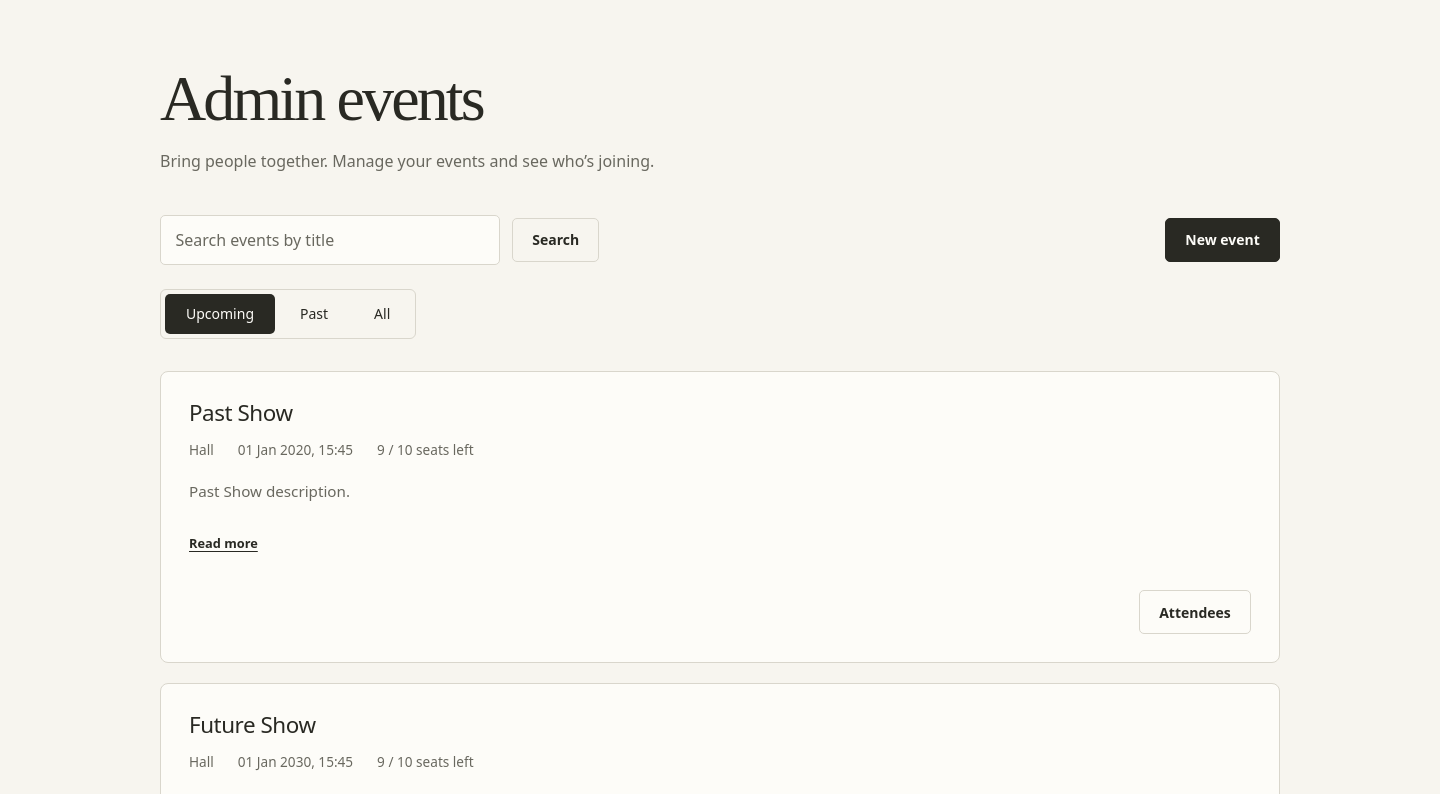
Test: started events are read-only › expands and collapses overflowing descriptions independently with accessible controls
The width and height of the screenshot is (1440, 794).
Expected: the heading "Past Show" is shown, [189,397,292,428]
Expected: the text "Past Show description." is shown, [189,480,350,500]
Click the button "Read more". click: {"x": 223, "y": 544}
box: [189,522,258,566]
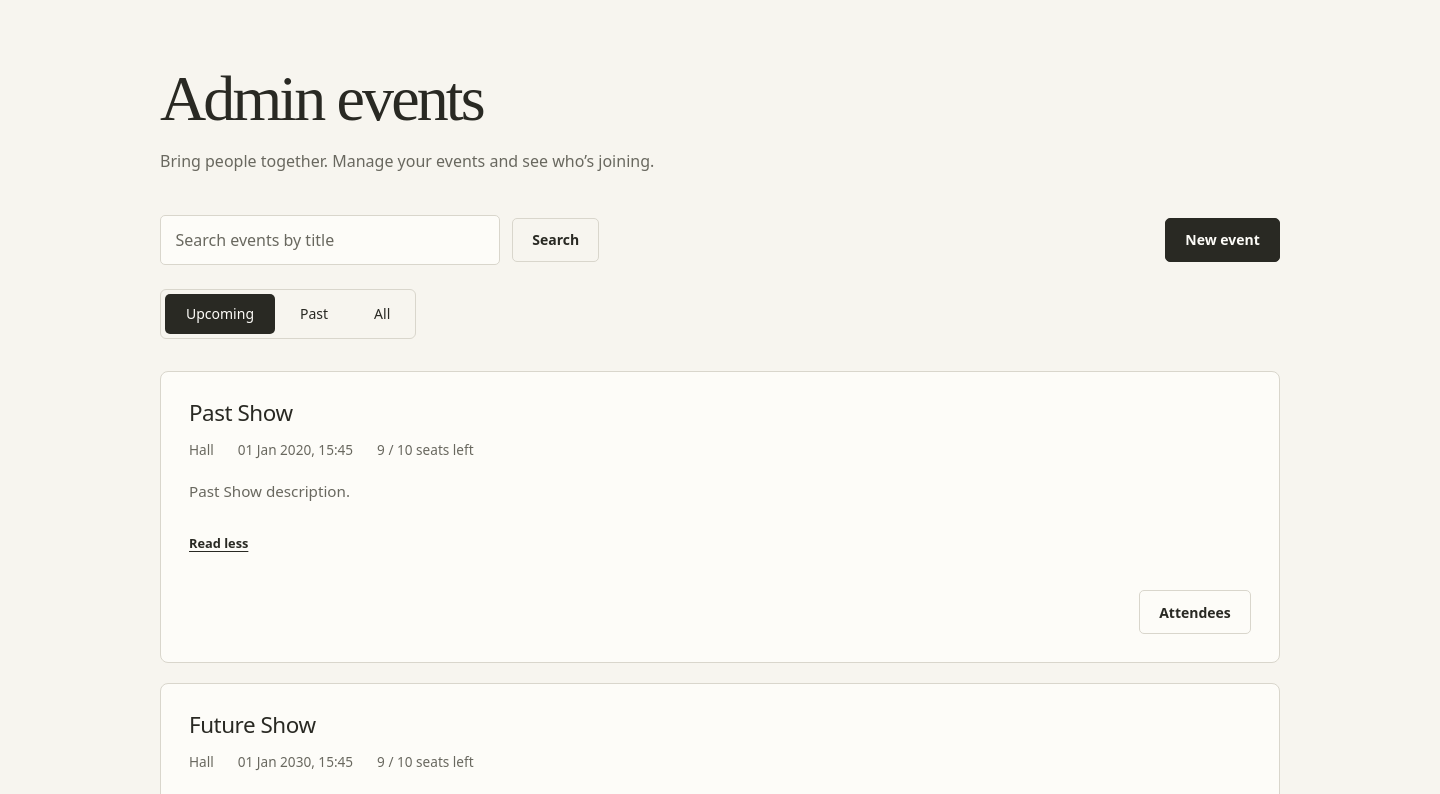
Expected: the button "Read less" is expanded
Click the button "Read less". click: {"x": 219, "y": 544}
box: [189,522,248,566]
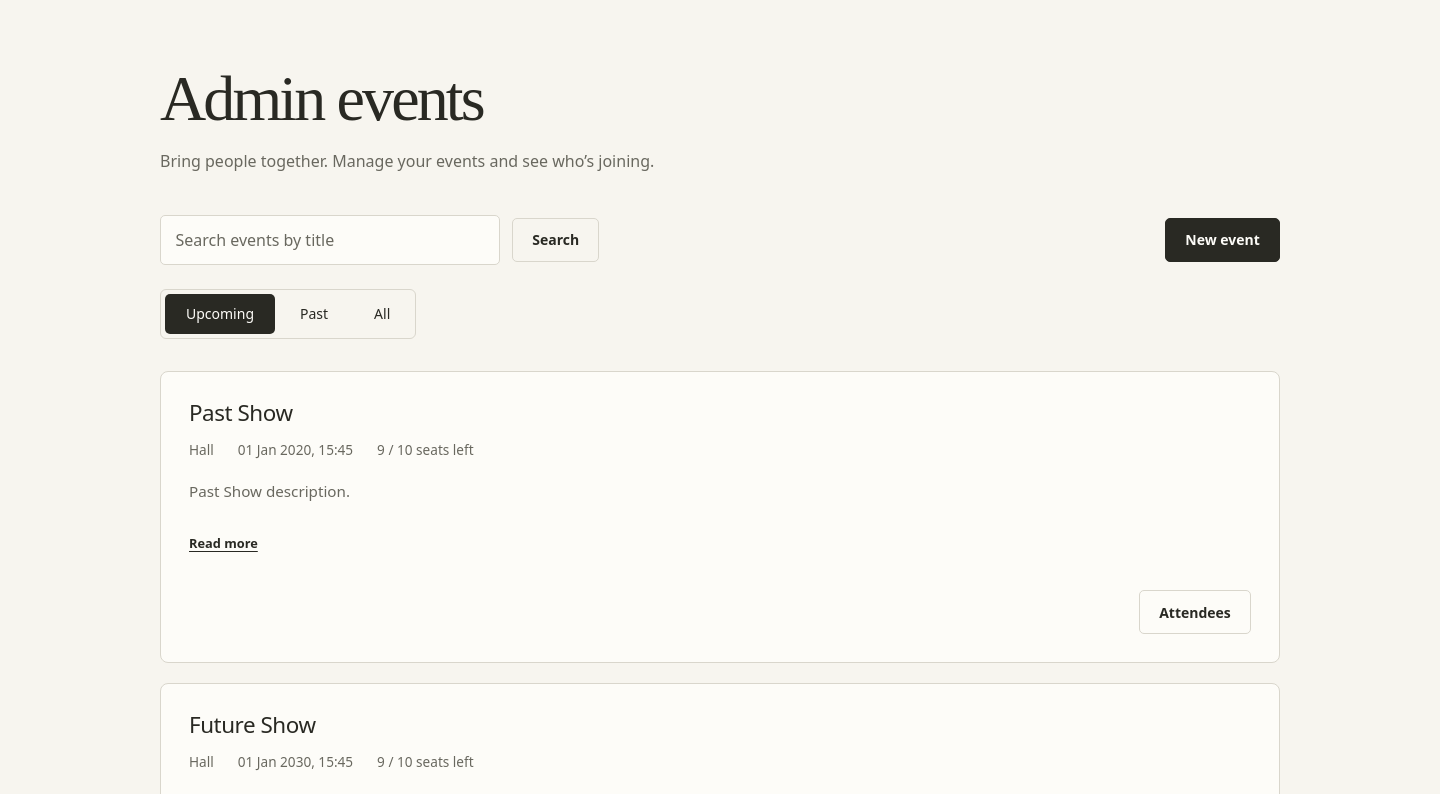
Expected: the button named "Read less" is collapsed, [189,522,258,566]
